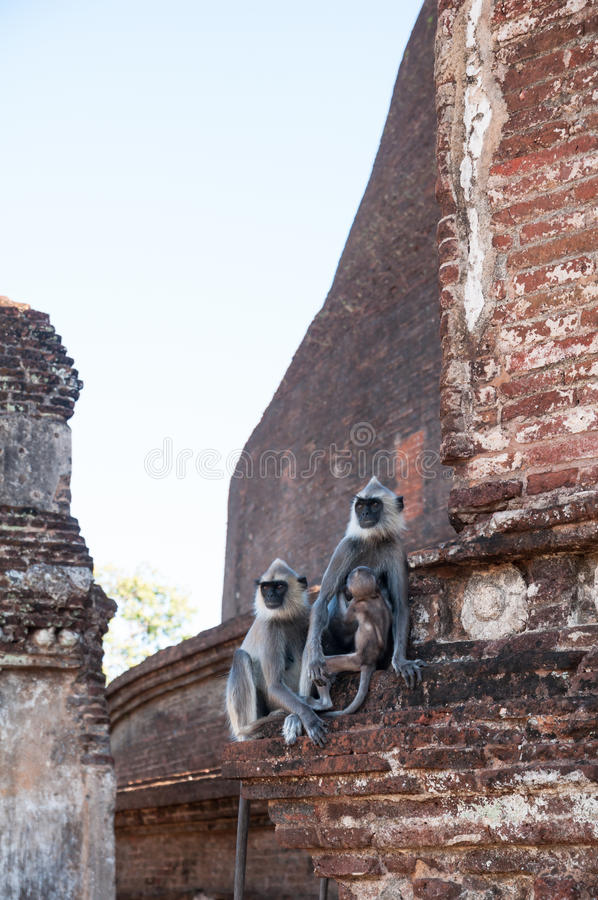monkey: (302, 478, 427, 727), (220, 557, 324, 751), (339, 567, 390, 708)
